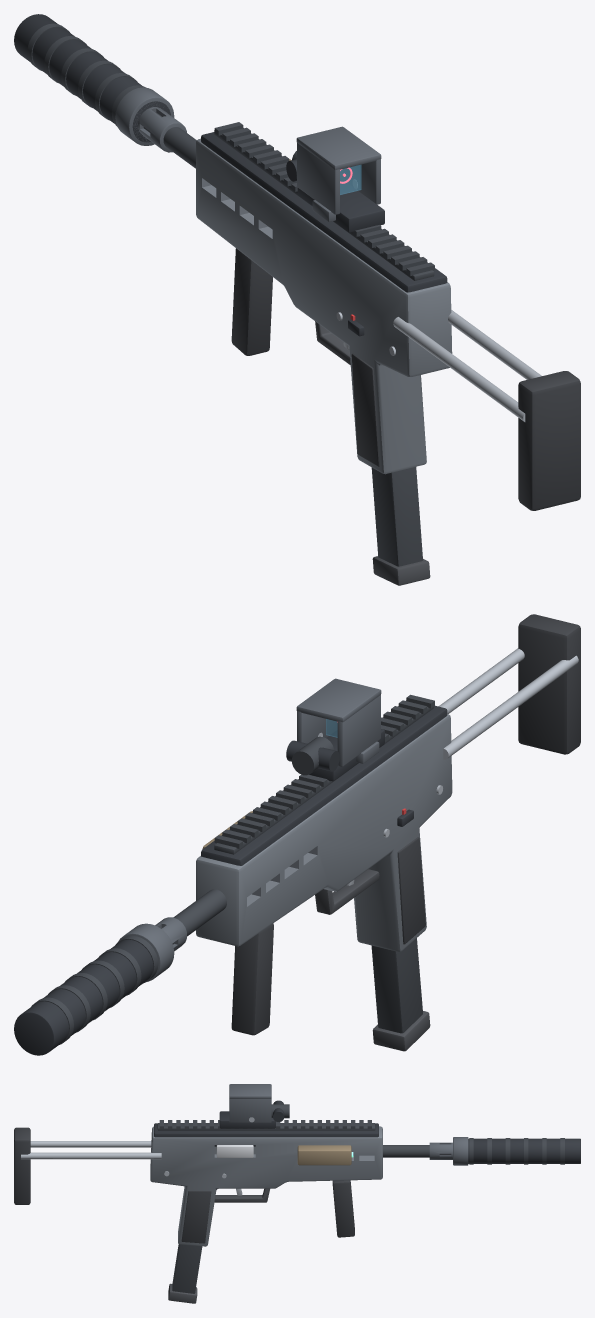
File: smg_mp7v.glb
3 renders of one model, top to bottom at view 1: azimuth 30°, elevation 25°; view 2: azimuth 150°, elevation 25°; view 3: azimuth 270°, elevation 25°, orthographic. The views are drawn at different scales.
Visible parts, largest first — view 1: MP7_Chassis, Buttpad, SupBody, MagBody, UpperShroud, Foregrip, GripStipple, Holo_Top, StockRodL, Holo_WallL, Holo_Mount, SupCollar (+5 smaller); view 2: MP7_Chassis, Buttpad, SupBody, UpperShroud, MagBody, Foregrip, GripStipple, Holo_Top, StockRodL, Holo_WallL, StockRodR, MP7_Barrel (+9 smaller); view 3: MP7_Chassis, SupBody, UpperShroud, Buttpad, GripStipple, MagBody, PEQ15_Body, StockRodR, Foregrip, Holo_WallR, TopRail_Base, StockRodL (+8 smaller).
Part boxes in pixels (x1=…): MP7_Chassis: x1=196, y1=138, x2=452, y2=474; Buttpad: x1=518, y1=371, x2=580, y2=510; SupBody: x1=14, y1=14, x2=170, y2=142; MagBody: x1=371, y1=467, x2=422, y2=566; UpperShroud: x1=201, y1=128, x2=447, y2=292; Foregrip: x1=231, y1=248, x2=272, y2=355; GripStipple: x1=351, y1=353, x2=379, y2=466; Holo_Top: x1=296, y1=126, x2=381, y2=170; StockRodL: x1=393, y1=317, x2=525, y2=421; Holo_WallL: x1=297, y1=143, x2=339, y2=214; Holo_Mount: x1=297, y1=178, x2=384, y2=232; SupCollar: x1=115, y1=87, x2=174, y2=145; MP7_Chassis: x1=196, y1=714, x2=452, y2=951; Buttpad: x1=518, y1=614, x2=580, y2=754; SupBody: x1=14, y1=939, x2=154, y2=1055; UpperShroud: x1=201, y1=700, x2=447, y2=865; MagBody: x1=371, y1=938, x2=422, y2=1033; Foregrip: x1=231, y1=923, x2=273, y2=1035; GripStipple: x1=397, y1=837, x2=425, y2=944; Holo_Top: x1=296, y1=678, x2=381, y2=722; StockRodL: x1=443, y1=655, x2=578, y2=759; Holo_WallL: x1=337, y1=695, x2=380, y2=766; StockRodR: x1=438, y1=648, x2=524, y2=713; MP7_Barrel: x1=161, y1=889, x2=226, y2=944; MP7_Chassis: x1=150, y1=1126, x2=382, y2=1246; SupBody: x1=468, y1=1138, x2=580, y2=1163; UpperShroud: x1=154, y1=1123, x2=378, y2=1146; Buttpad: x1=14, y1=1127, x2=30, y2=1204; GripStipple: x1=181, y1=1191, x2=211, y2=1243; MagBody: x1=172, y1=1244, x2=202, y2=1293; PEQ15_Body: x1=297, y1=1145, x2=351, y2=1165; StockRodR: x1=21, y1=1152, x2=161, y2=1159; Foregrip: x1=332, y1=1180, x2=354, y2=1237; Holo_WallR: x1=229, y1=1098, x2=271, y2=1122; TopRail_Base: x1=157, y1=1123, x2=375, y2=1130; StockRodL: x1=30, y1=1141, x2=151, y2=1147.
Bounding box in the file's own units: 0.0701 × 0.3625 × 0.887.
